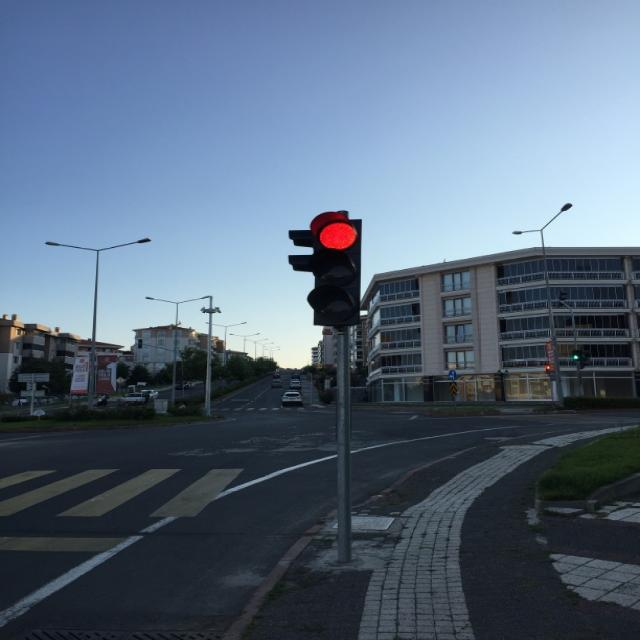kirmizi: (314, 210, 363, 327)
